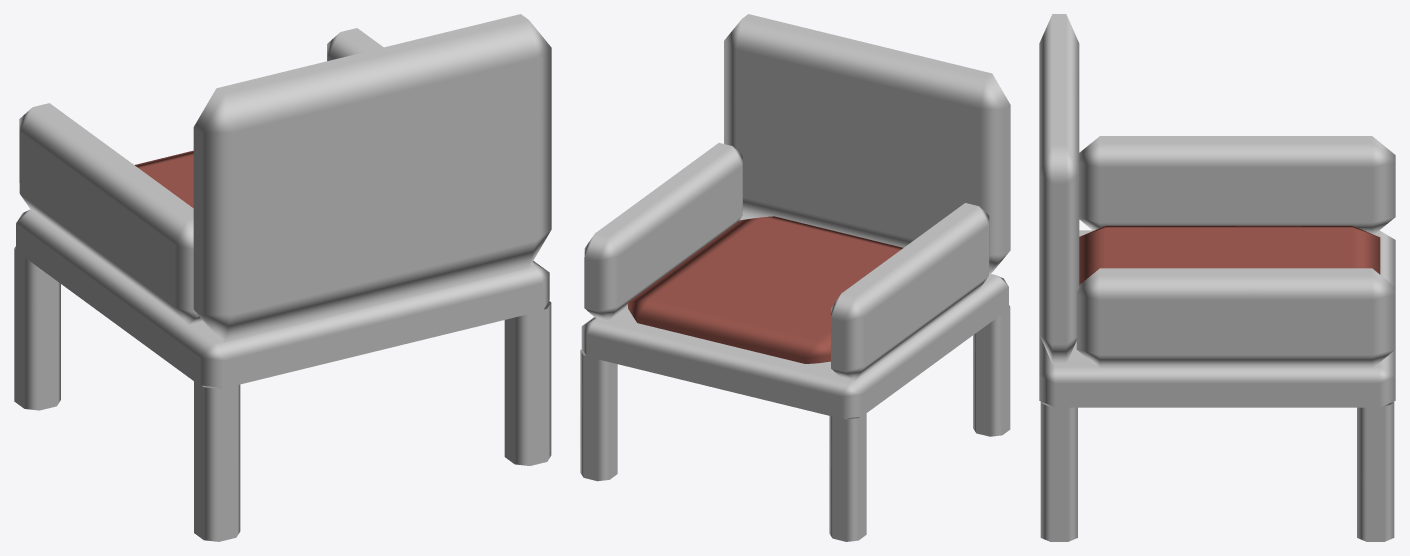
The model's file is armchair.obj.
3 views of the same model, side by side, from view 1: azimuth 30°, elevation 25°; view 2: azimuth 150°, elevation 25°; view 3: azimuth 270°, elevation 25° (orthographic). The views are drawn at different scales.
Parts seen in each view (by area): view 1: backrest, seat_base, left_arm, leg_3, leg_1, leg_2, seat_cushion, right_arm; view 2: backrest, seat_cushion, seat_base, left_arm, right_arm, leg_2, leg_4, leg_1; view 3: right_arm, left_arm, seat_base, backrest, seat_cushion, leg_3, leg_4.
Boxes of the visible parts, x1=… form: backrest: x1=193, y1=14, x2=551, y2=342; seat_base: x1=16, y1=209, x2=549, y2=388; left_arm: x1=19, y1=103, x2=203, y2=325; leg_3: x1=504, y1=301, x2=551, y2=465; leg_1: x1=194, y1=381, x2=240, y2=541; leg_2: x1=14, y1=246, x2=60, y2=410; seat_cushion: x1=134, y1=150, x2=193, y2=207; right_arm: x1=327, y1=28, x2=383, y2=61; backrest: x1=724, y1=14, x2=1010, y2=274; seat_cushion: x1=628, y1=216, x2=903, y2=363; seat_base: x1=581, y1=217, x2=1008, y2=418; left_arm: x1=831, y1=203, x2=989, y2=380; right_arm: x1=584, y1=143, x2=742, y2=320; leg_2: x1=829, y1=413, x2=866, y2=541; leg_4: x1=580, y1=349, x2=617, y2=481; leg_1: x1=973, y1=305, x2=1010, y2=436; right_arm: x1=1076, y1=268, x2=1395, y2=368; left_arm: x1=1079, y1=136, x2=1395, y2=234; seat_base: x1=1039, y1=230, x2=1395, y2=407; backrest: x1=1039, y1=14, x2=1079, y2=363; seat_cushion: x1=1079, y1=225, x2=1380, y2=284; leg_3: x1=1040, y1=401, x2=1077, y2=541; leg_4: x1=1357, y1=401, x2=1394, y2=541.
Size of the model in its own units: 0.766 by 0.92 by 0.766.
